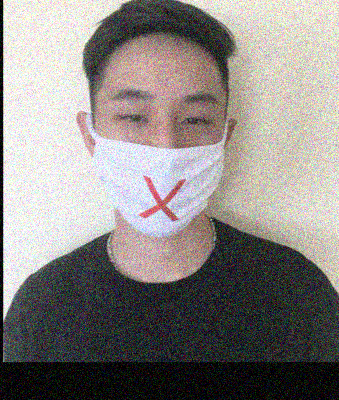with_mask: (93, 85, 227, 239)
